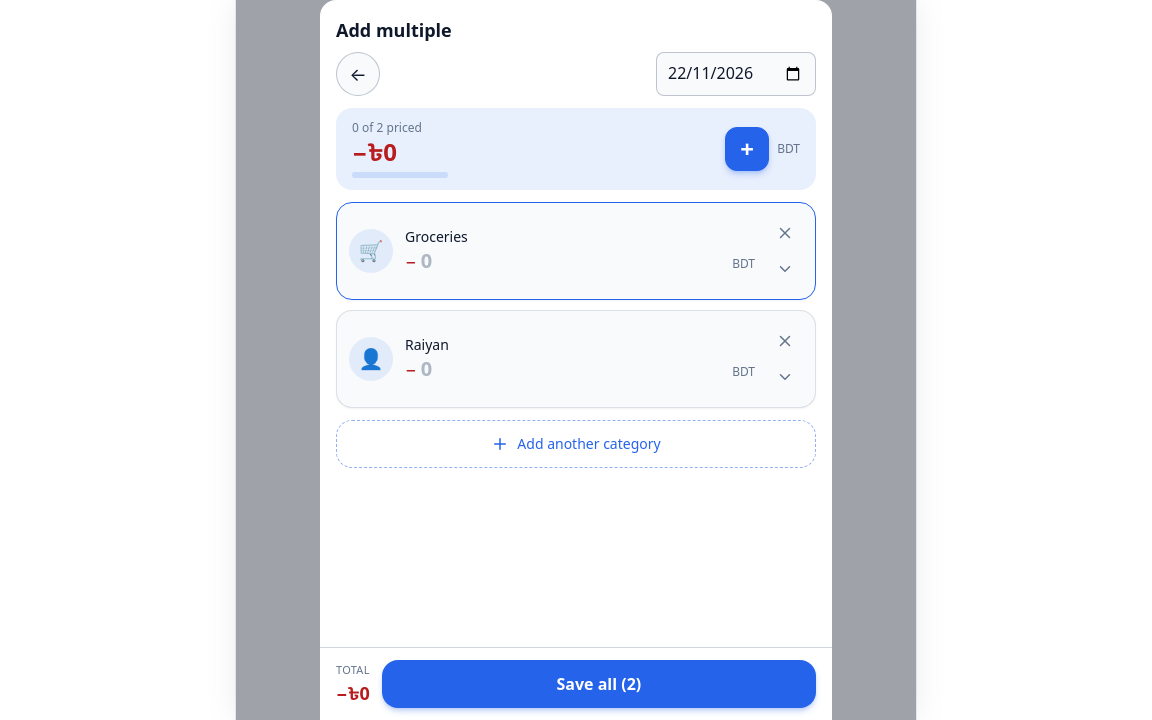
Test: BasketSheet › removing a row updates the count
Click the button named "Remove Raiyan".
click(785, 341)  # box x1=767 y1=323 x2=803 y2=359
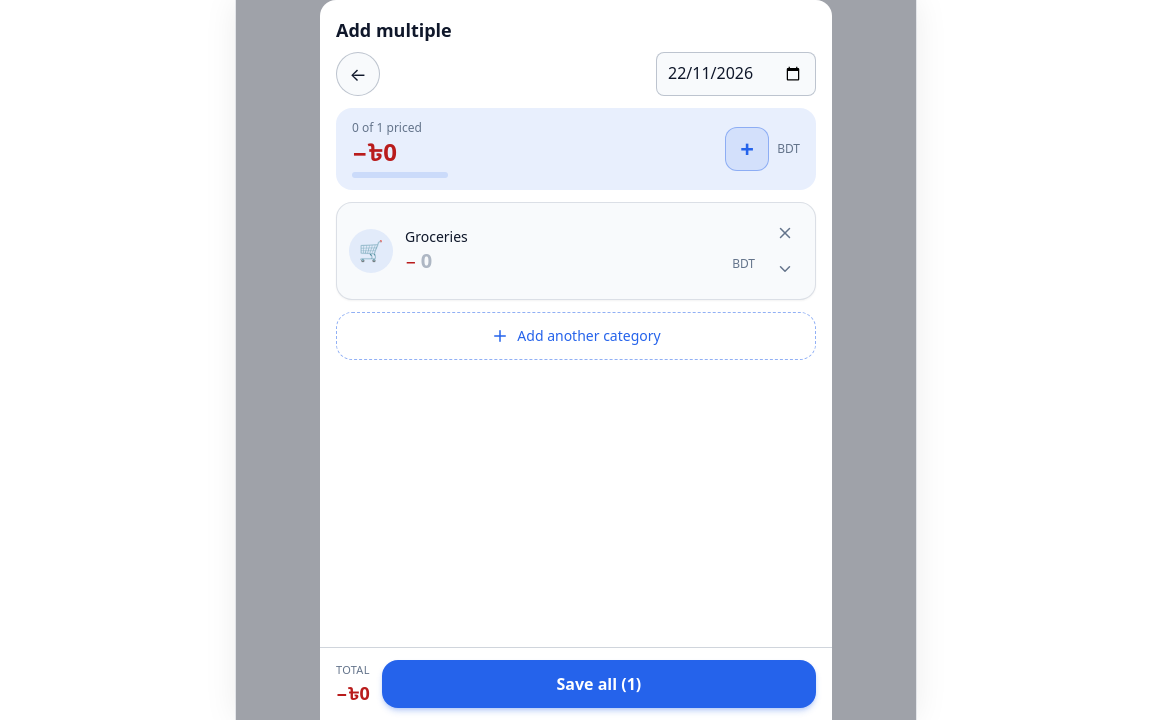
Expected: the button "Save all (1)" is shown, x1=382 y1=660 x2=816 y2=708
